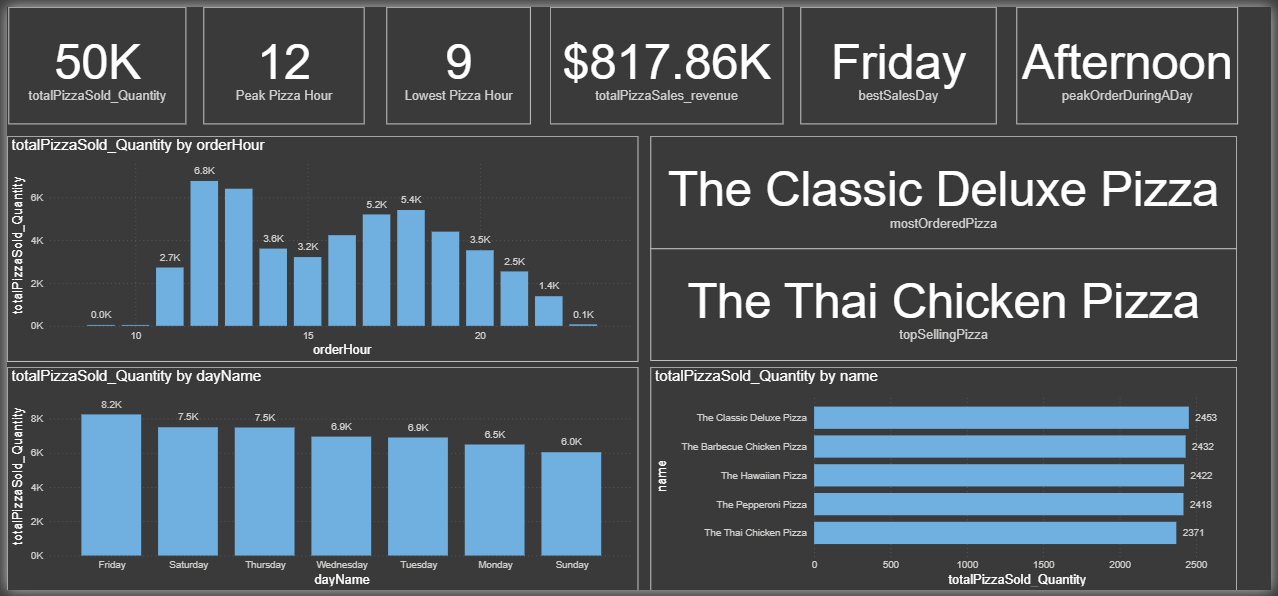

The page's visual inventory and layout, read from the dashboard file:
{"tool":"powerbi","page":{"name":"Page 1","canvas":[1560,720],"ordinal":0},"visuals":[{"type":"card","fields":{"Values":["order_details.totalPizzaSold"]},"box":[1.6,0,219.5,144.7],"z":0},{"type":"columnChart","fields":{"Category":["orders.orderHour"],"Y":["order_details.totalPizzaSold"]},"box":[0,159.1,779.4,278.4],"z":1000},{"type":"card","fields":{"Values":["orders.Peak Pizza Hour"]},"box":[243.4,0,198.8,144.7],"z":2000},{"type":"card","fields":{"Values":["orders.Lowest Pizza Hour"]},"box":[469.2,0,178.1,144.7],"z":3000},{"type":"card","fields":{"Values":["order_details.totalPizzaSales"]},"box":[669.6,0,287.9,144.7],"z":4000},{"type":"columnChart","fields":{"Category":["orders.dayName"],"Y":["order_details.totalPizzaSold_Quantity"]},"box":[0,443.8,779.4,276.8],"z":5000},{"type":"card","fields":{"Values":["orders.bestSalesDay"]},"box":[979.8,0,241.8,144.7],"z":6000},{"type":"barChart","fields":{"Category":["pizza_types.name"],"Y":["order_details.totalPizzaSold_Quantity"]},"box":[795.3,443.8,723.7,276.8],"z":7000},{"type":"card","fields":{"Values":["pizza_types.mostOrderedPizza"]},"box":[795.3,159.1,723.7,140],"z":8000},{"type":"card","fields":{"Values":["pizza_types.topSellingPizza"]},"box":[795.3,299,723.7,138.4],"z":9000},{"type":"card","fields":{"Values":["order_details.peakOrderDuringADay"]},"box":[1245.4,0,273.6,144.7],"z":10000}]}

Visuals, with their boxes in screenshot pixels (x1, y1, x2, y2), scaled from the page's 1560x720 canvas onto the 1278x596 screenshot:
card - order_details.totalPizzaSold: <region>1, 0, 181, 120</region>
columnChart - orders.orderHour x order_details.totalPizzaSold: <region>0, 132, 639, 362</region>
card - orders.Peak Pizza Hour: <region>199, 0, 362, 120</region>
card - orders.Lowest Pizza Hour: <region>384, 0, 530, 120</region>
card - order_details.totalPizzaSales: <region>549, 0, 784, 120</region>
columnChart - orders.dayName x order_details.totalPizzaSold_Quantity: <region>0, 367, 639, 595</region>
card - orders.bestSalesDay: <region>803, 0, 1001, 120</region>
barChart - pizza_types.name x order_details.totalPizzaSold_Quantity: <region>652, 367, 1244, 595</region>
card - pizza_types.mostOrderedPizza: <region>652, 132, 1244, 248</region>
card - pizza_types.topSellingPizza: <region>652, 248, 1244, 362</region>
card - order_details.peakOrderDuringADay: <region>1020, 0, 1244, 120</region>
